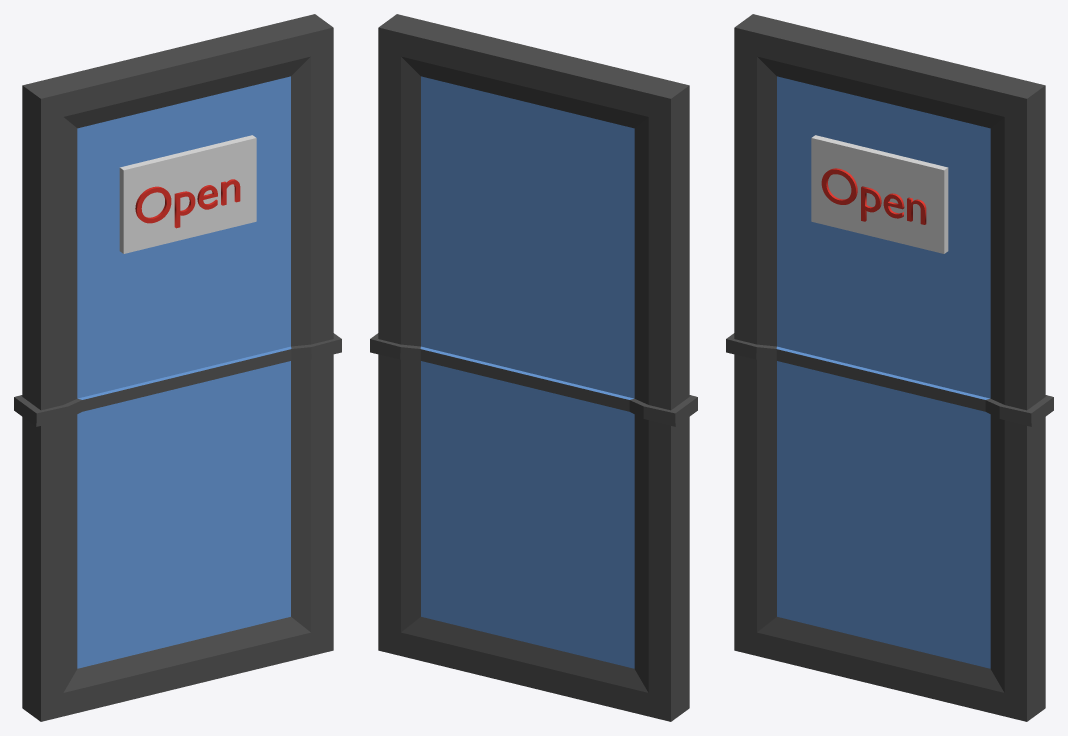
File: ShopDoor.fbx
3 views of the same model, side by side, from view 1: azimuth 30°, elevation 25°; view 2: azimuth 150°, elevation 25°; view 3: azimuth 330°, elevation 25° (orthographic).
Visible parts, largest first — view 1: Door, Sign, Text; view 2: Door; view 3: Door, Sign, Text.
Boxes of the visible parts, x1=… form: Door: x1=14, y1=14, x2=341, y2=721; Sign: x1=119, y1=135, x2=256, y2=253; Text: x1=135, y1=179, x2=240, y2=228; Door: x1=370, y1=14, x2=697, y2=721; Door: x1=726, y1=14, x2=1053, y2=721; Sign: x1=811, y1=135, x2=948, y2=253; Text: x1=821, y1=168, x2=926, y2=224.
Size of the model in its own units: 176 by 343 by 25.58.
